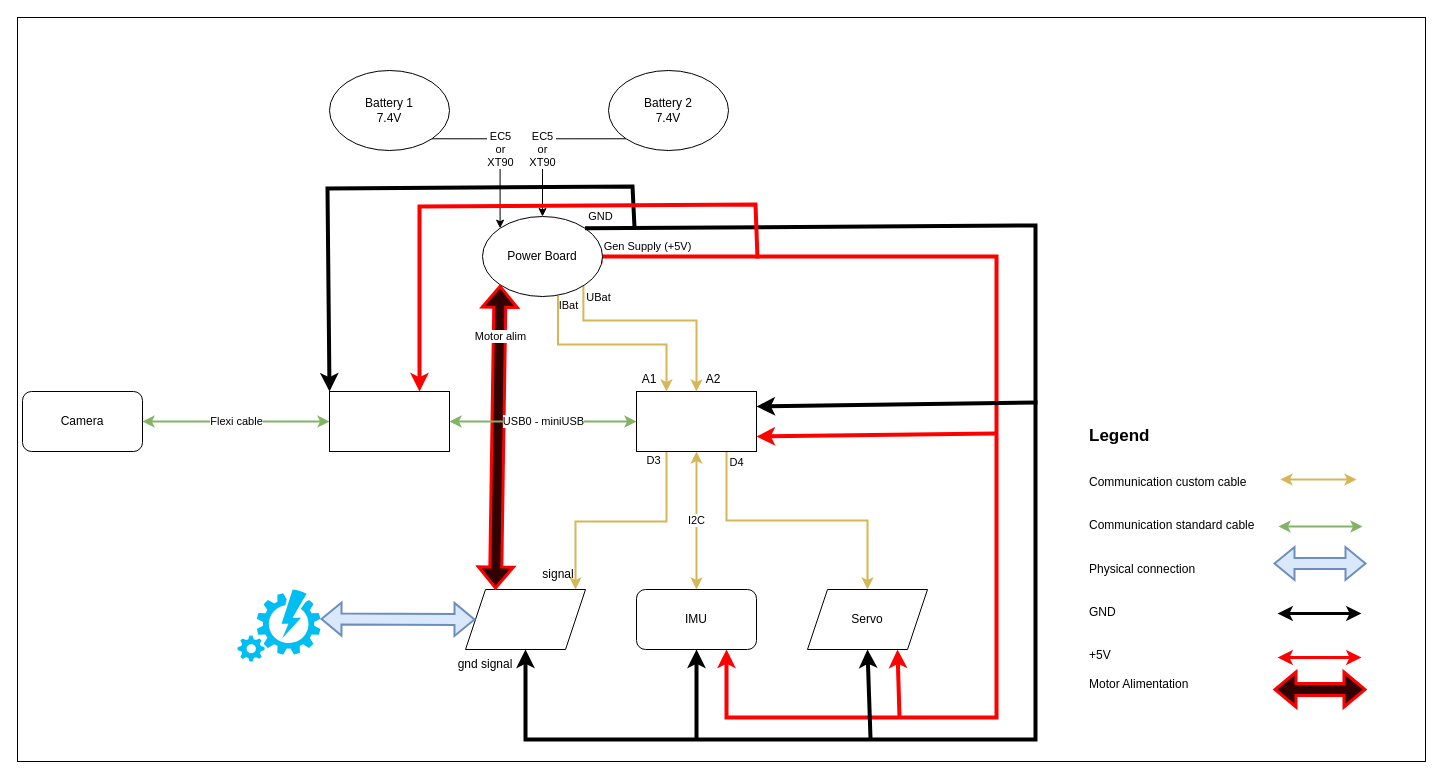
Image size: 1443x779. Some labels were removed from this diagram. The shapes that lost their labels are listed below. From the top down, each one's box as (x1, y1, x2, y2) in pixels, then its label:
(328, 390, 450, 452): Brain (Raspbery pi)
(636, 390, 756, 452): Controller (Nucleo)
(464, 588, 586, 650): Motor
